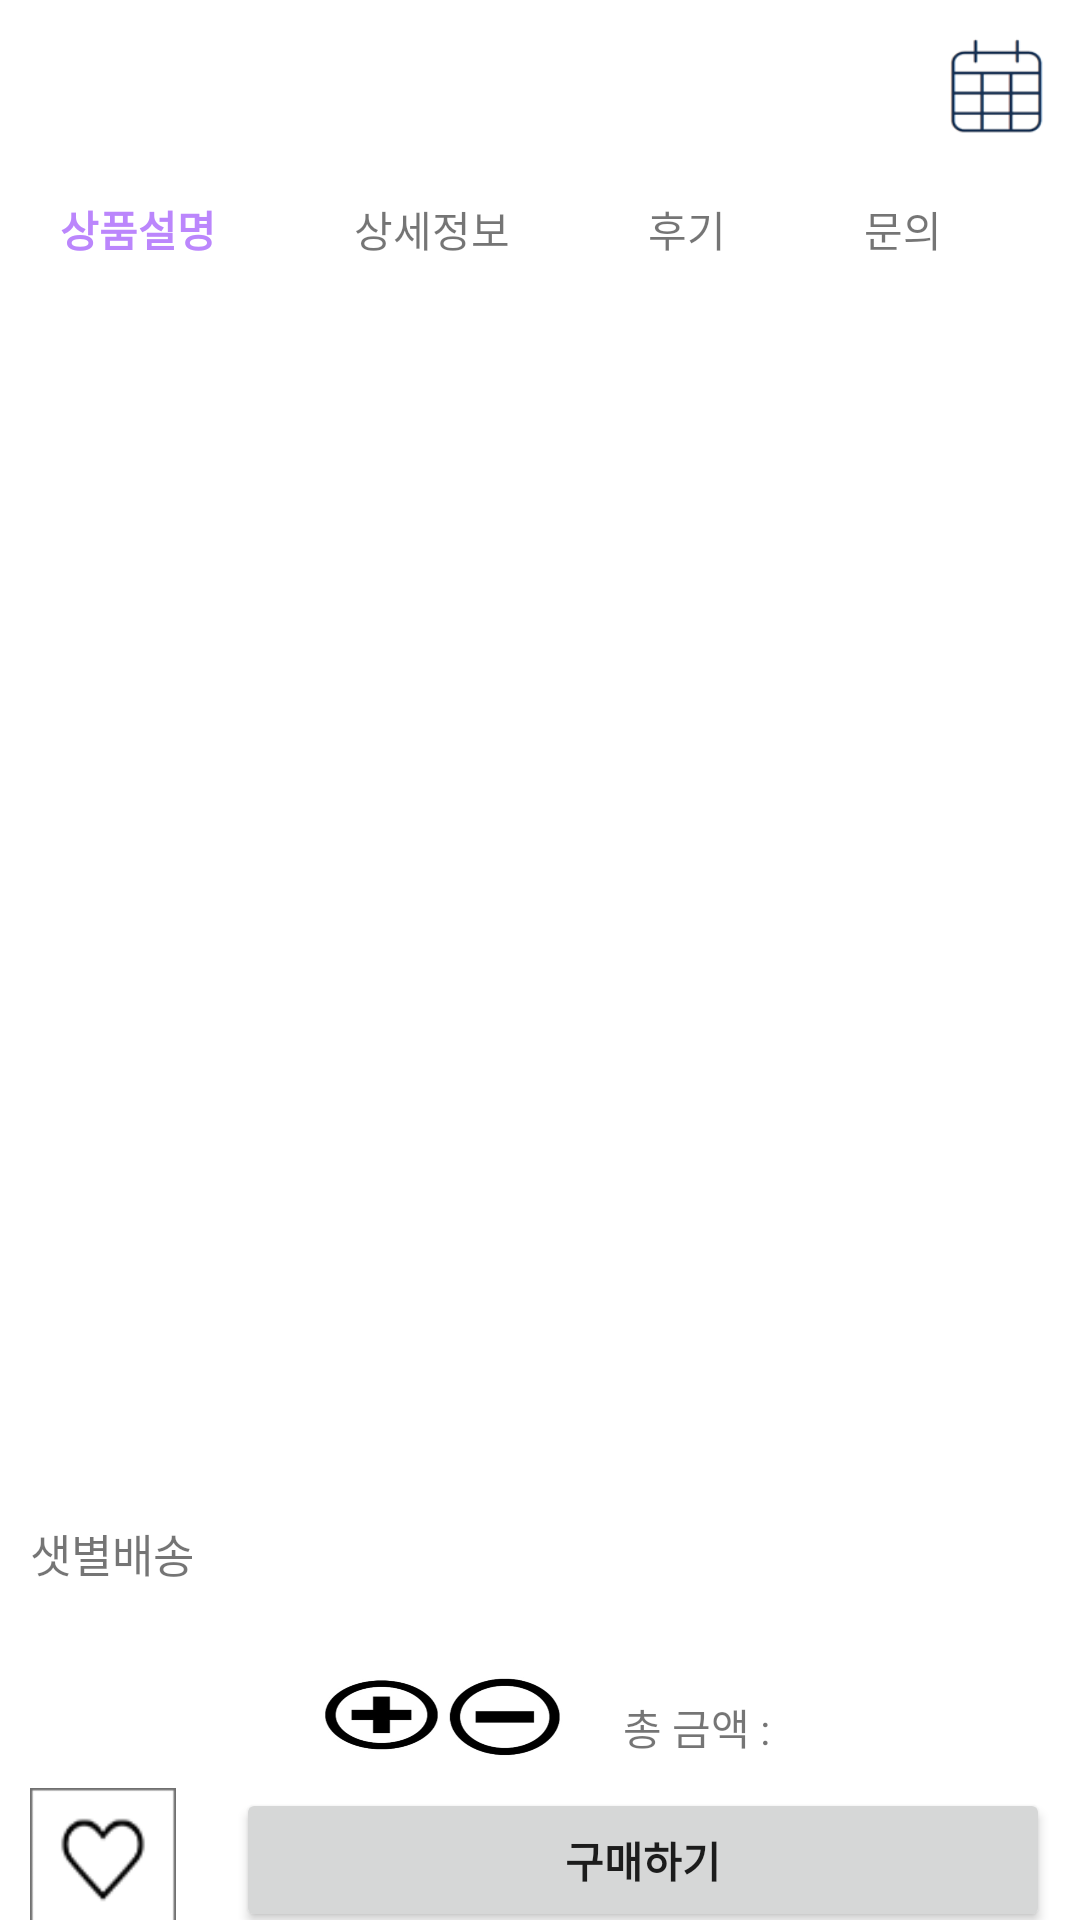

Icon click points for this 1080px×1920px phone screenshot, format (x,y):
callendar: (996,86)
hart: (103,1854)
minus: (504,1716)
plus: (381,1715)
